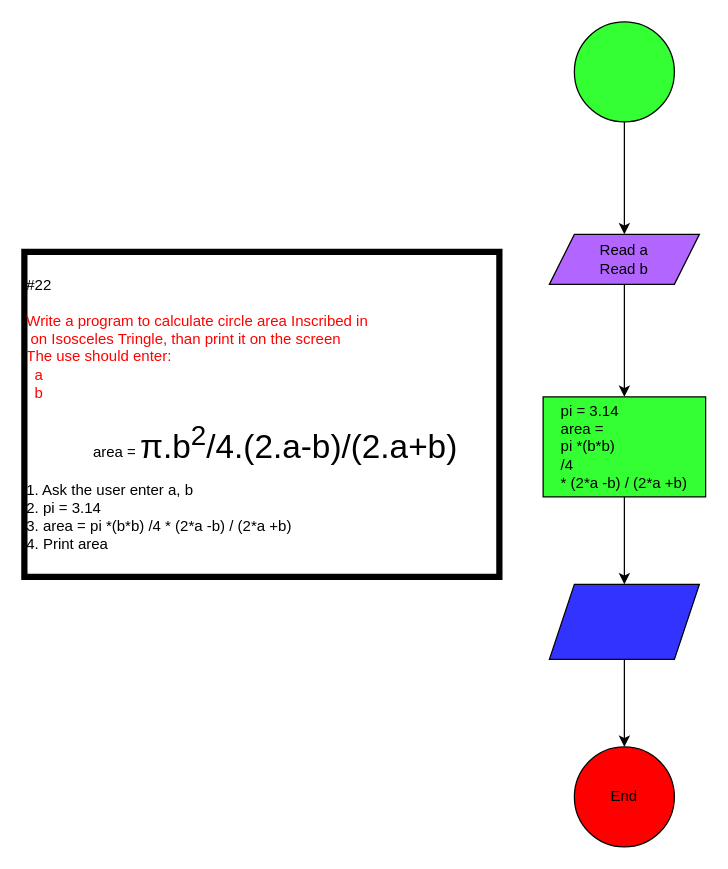
Some shapes in this 728 by 869 pixel diagram are drawn without their labels. Each missing label, with the box of its shape:
Print area: (548, 583, 699, 659)
Start: (573, 21, 674, 122)
